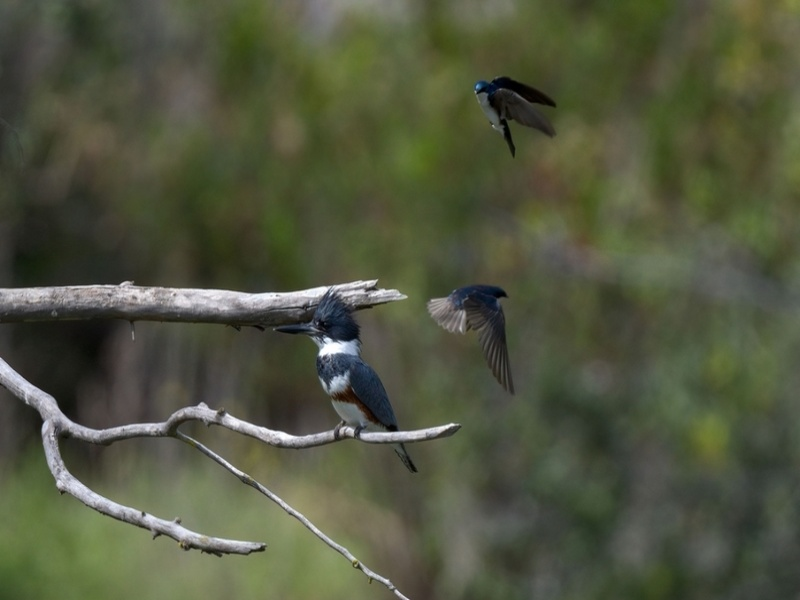kingfisher: (269, 292, 421, 475)
